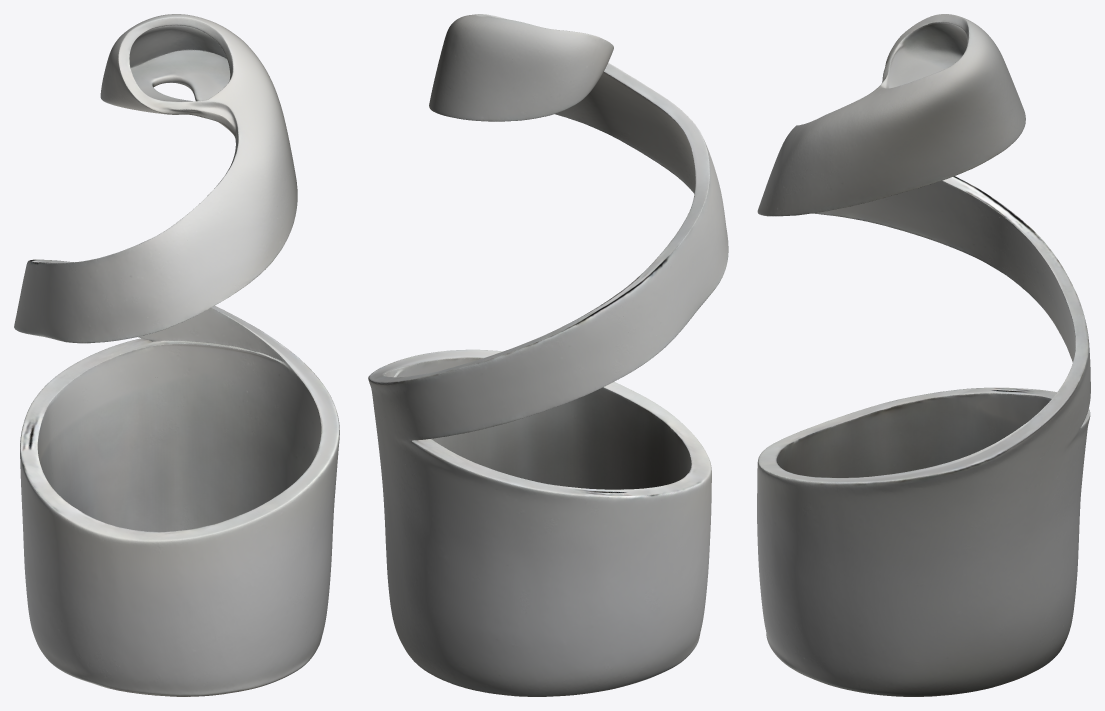
The picture shows the model from 3 angles, left to right: view 1: azimuth 30°, elevation 25°; view 2: azimuth 150°, elevation 25°; view 3: azimuth 270°, elevation 25°; orthographic projection. The views are drawn at different scales.
Parts seen in each view (by area): view 1: model; view 2: model; view 3: model.
Part boxes in pixels (x1,y1,x2,y2): model: (14, 14, 339, 696); model: (368, 14, 728, 696); model: (757, 14, 1090, 696).
Bounding box in the file's own units: 0.8799 × 1.8 × 0.8932.
Materials: 1 (1 with a texture image).
